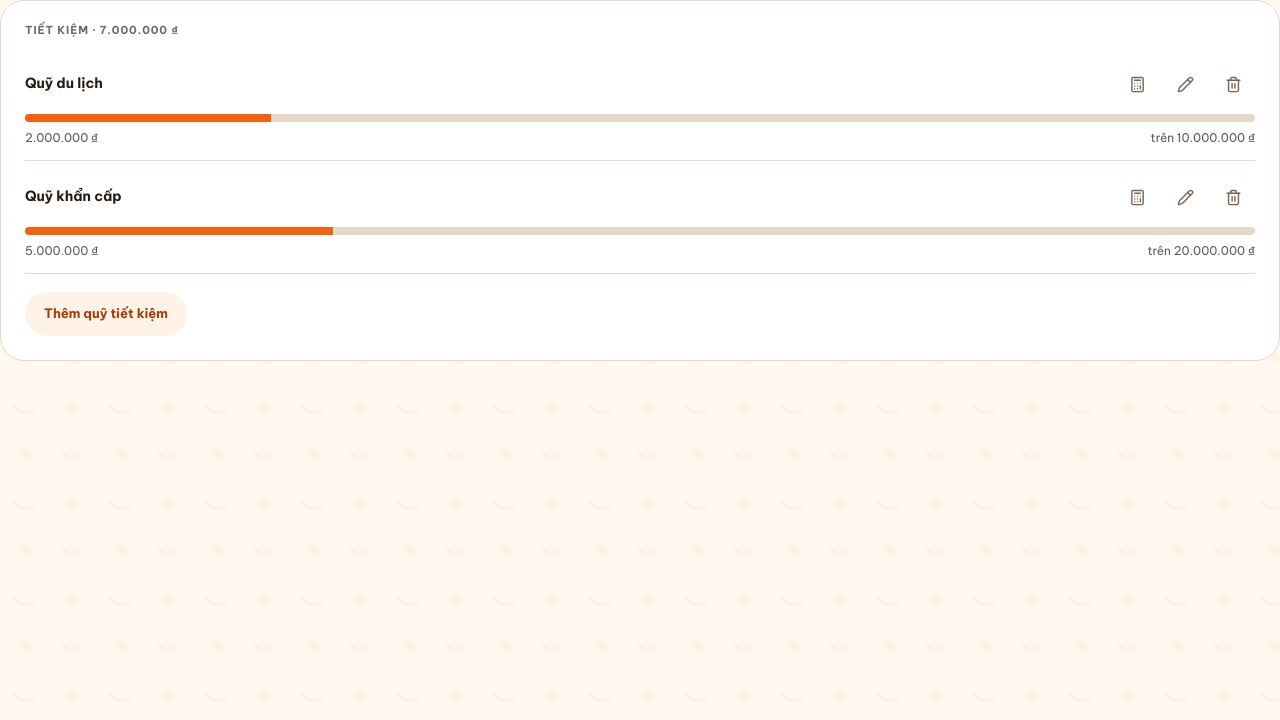
Test: SavingsTab — tên quỹ trùng › blocks renaming a fund to another fund's name from the Sửa form
The image size is (1280, 720).
Click the button named "Sửa Quỹ du lịch" at (1185, 84), box [1163,62,1207,106]
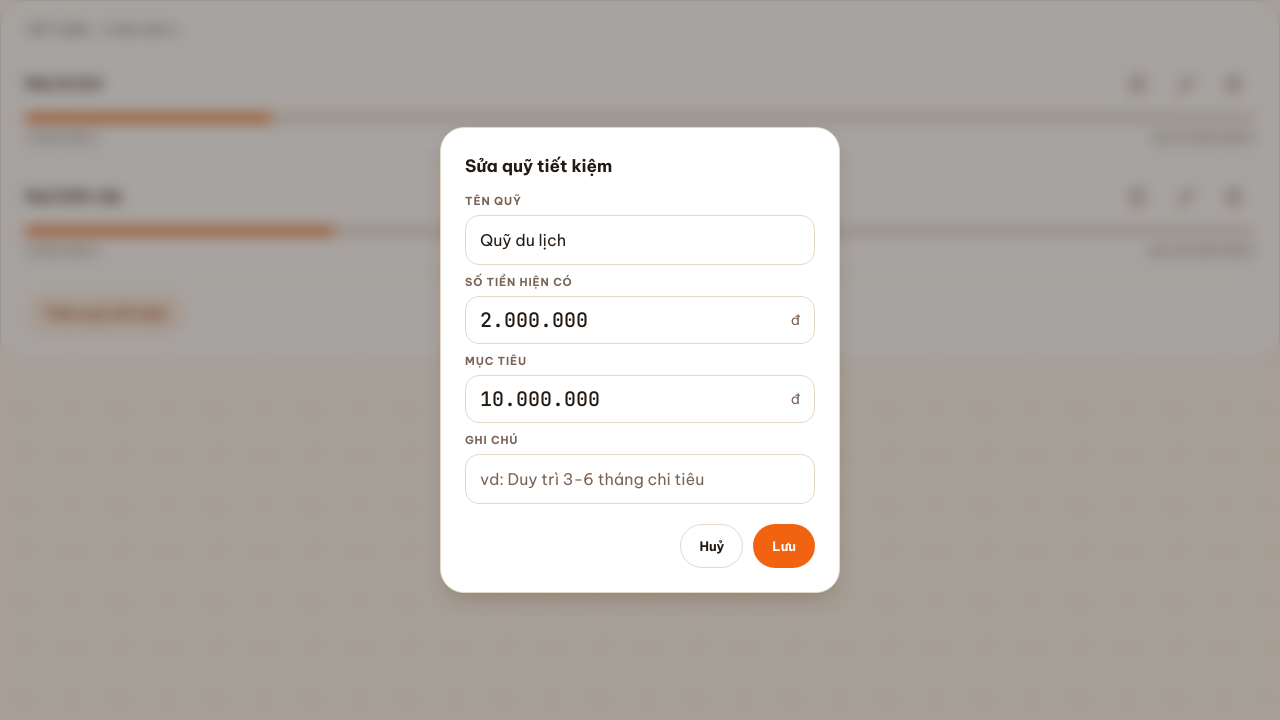
Replace the text in the field labelled "Tên quỹ" with "Quỹ khẩn cấp" at (640, 240), box [480,216,800,264]
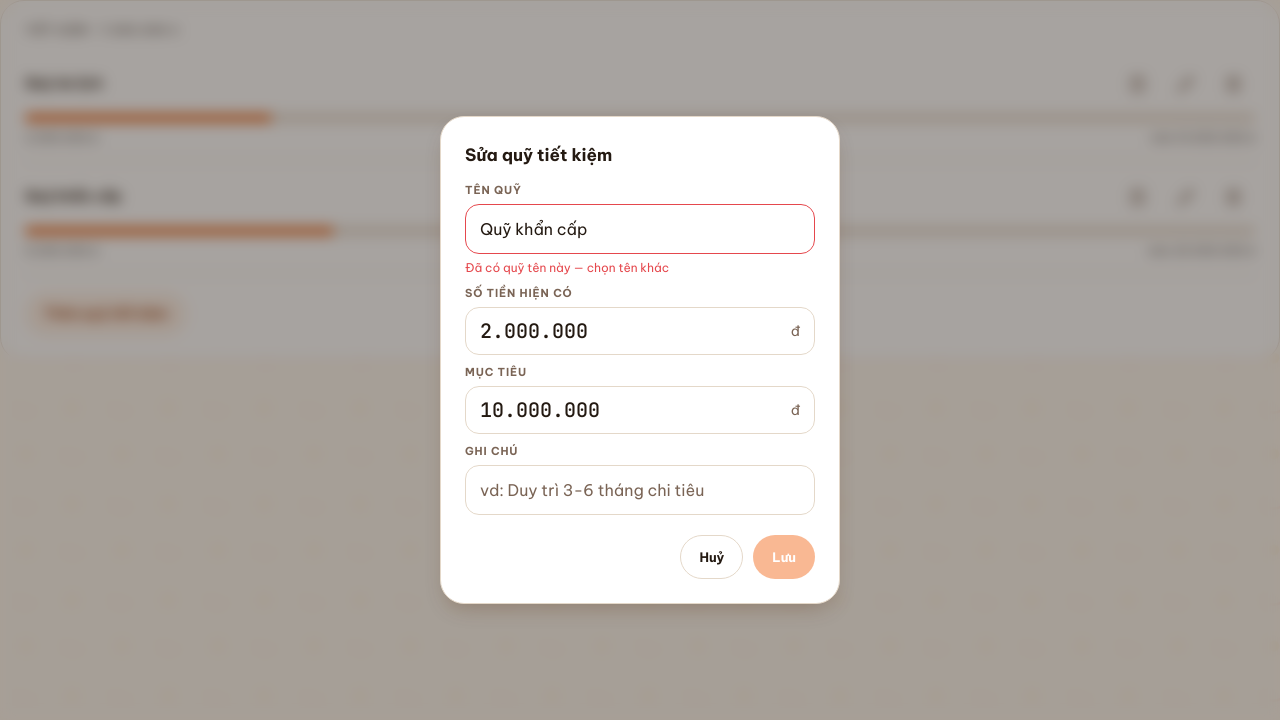
Check: the text "Đã có quỹ tên này — chọn tên khác" is shown, box [465,260,669,275]
Check: the button "Lưu" is disabled, box [753,535,815,579]
